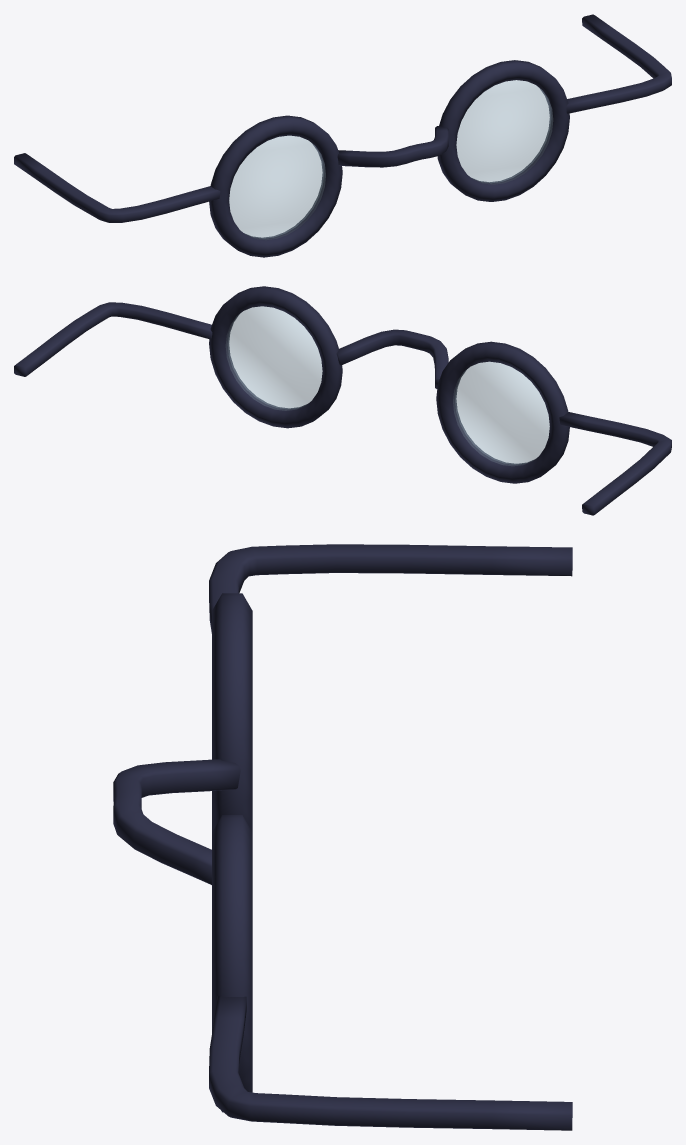
Rendered from round_glasses-panda.glb.
3 views of the same model, one above another, from view 1: azimuth 30°, elevation 25°; view 2: azimuth 150°, elevation 25°; view 3: azimuth 270°, elevation 25° (orthographic). The views are drawn at different scales.
Parts seen in each view (by area): view 1: lens, lens.001, rim.001, rim, temple.001, temple, bridge; view 2: lens, lens.001, rim, rim.001, temple, temple.001, bridge; view 3: temple, temple.001, rim, rim.001, bridge.
Part boxes in pixels (x1,y1,x2,y2): lens: (456,80,552,184); lens.001: (229,135,325,239); rim.001: (209,115,342,257); rim: (437,60,569,201); temple.001: (14,153,220,222); temple: (566,14,671,113); bridge: (337,126,448,167); lens: (226,306,322,410); lens.001: (453,361,549,465); rim: (209,286,342,428); rim.001: (436,341,569,483); temple: (14,302,212,376); temple.001: (559,412,671,515); bridge: (336,329,448,388); temple: (209,996,572,1130); temple.001: (209,544,572,633); rim: (212,815,252,1112); rim.001: (212,593,252,831); bridge: (113,759,240,884).
Size of the model in its own units: 1.33 by 0.2946 by 0.4552.
